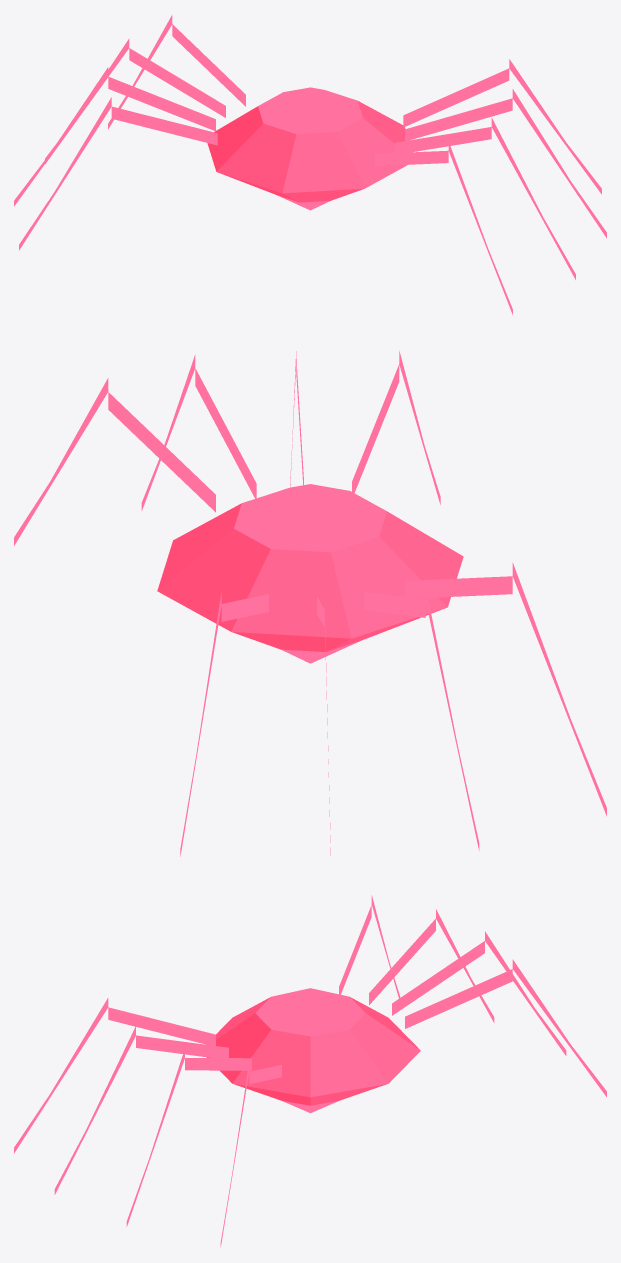
File: spider_tech.gltf
3 views of the same model, one above another, from view 1: azimuth 30°, elevation 25°; view 2: azimuth 150°, elevation 25°; view 3: azimuth 270°, elevation 25° (orthographic). The views are drawn at different scales.
Bounding box in the file's own units: 4.2 × 1.18 × 4.29.
